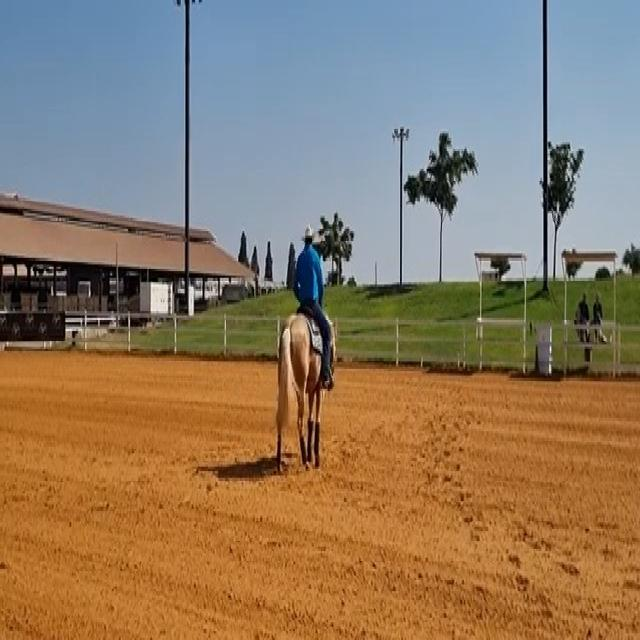horse: (273, 304, 338, 473)
